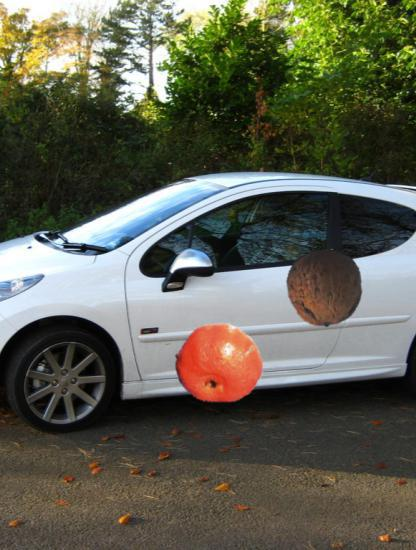Clementine: (172, 317, 264, 409)
Walnut: (286, 250, 364, 328)
